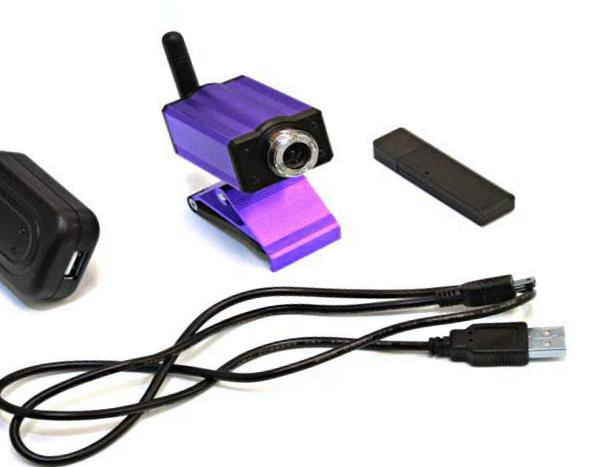webcam: (159, 61, 338, 209)
